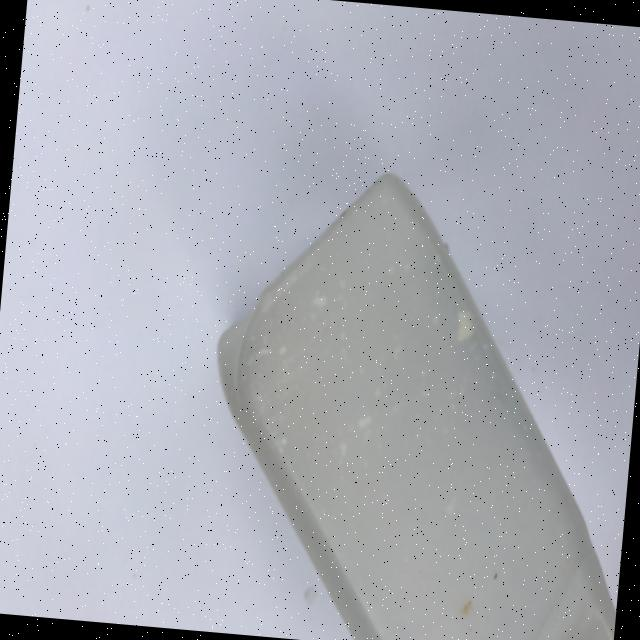plastic: (191, 156, 640, 640)
